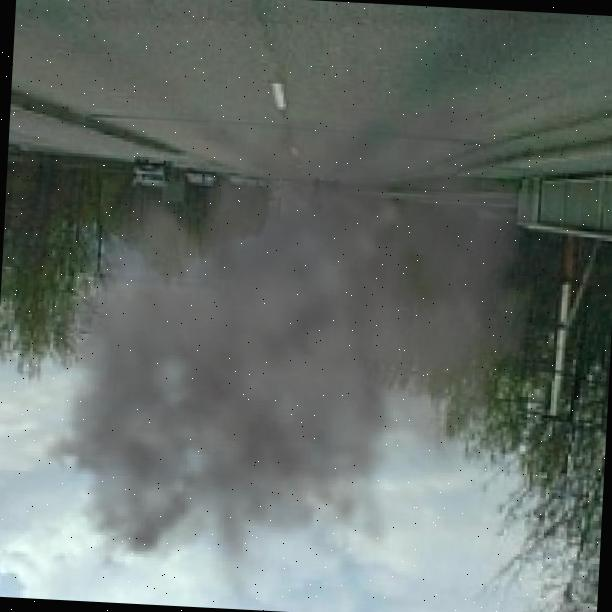smoke: (0, 33, 591, 612)
